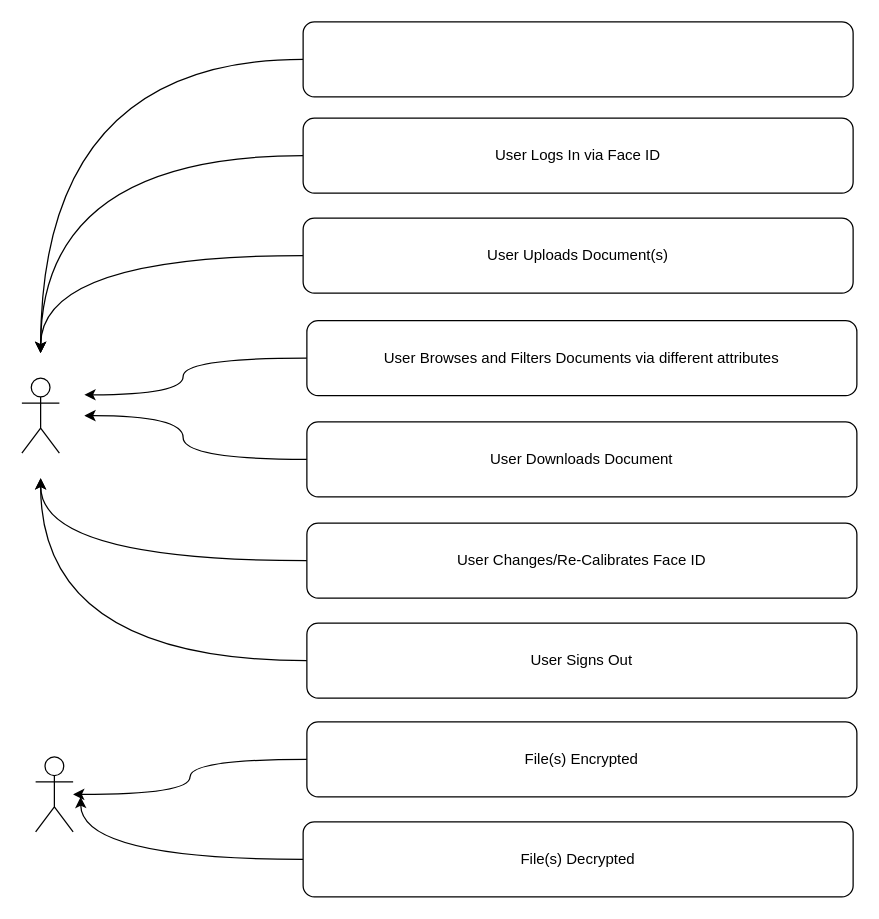
Some shapes in this 879 by 919 pixel diagram are drawn without their labels. Each missing label, with the centre of its shape:
"System" belongs at pixel 53 794.
"User" belongs at pixel 40 415.
"User Registers and Sets-up Face ID" belongs at pixel 577 59.
